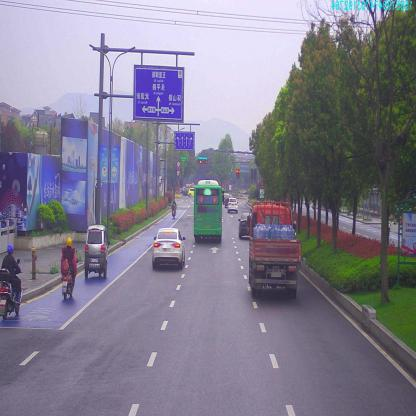traffic-light: (198, 155, 208, 159), (203, 159, 209, 164), (198, 159, 202, 165)
